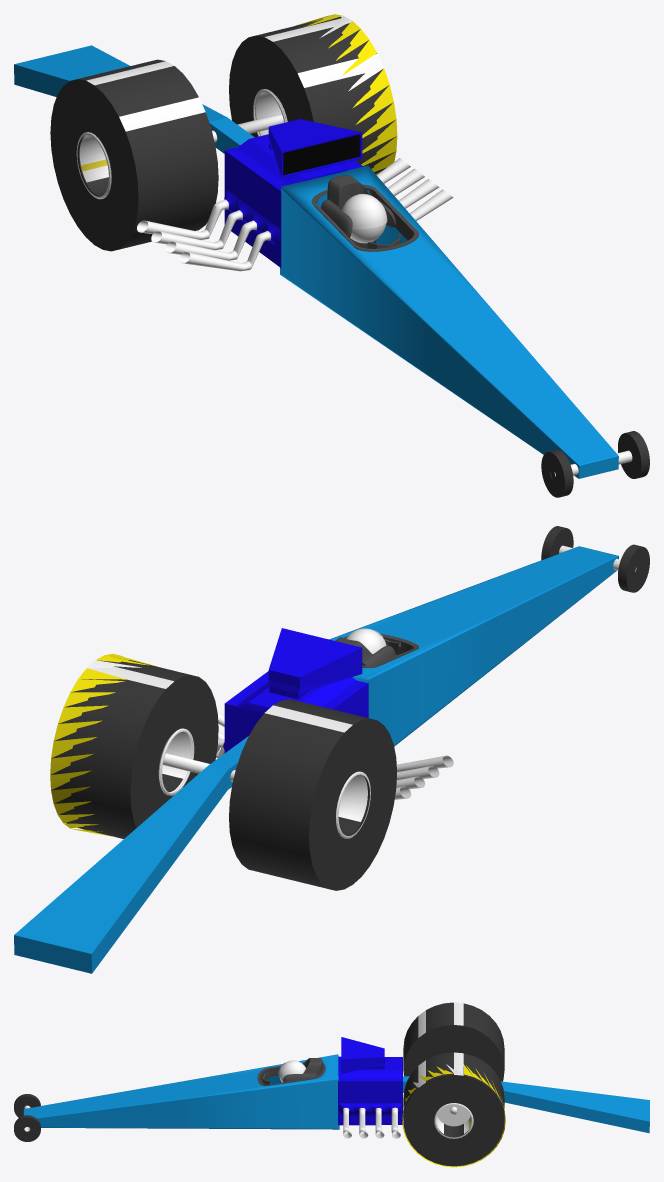
The model's file is realDrag.glb.
3 views of the same model, one above another, from view 1: azimuth 30°, elevation 25°; view 2: azimuth 150°, elevation 25°; view 3: azimuth 270°, elevation 25° (orthographic). The views are drawn at different scales.
Visible parts, largest first — view 1: body, tire-rear.right, tire-rear.left.004, tire-front.right, tire-front.left; view 2: body, tire-rear.right, tire-rear.left.004, tire-front.right, tire-front.left; view 3: body, tire-rear.left.004, tire-rear.right, tire-front.left, tire-front.right.
Boxes of the visible parts, bbox=[...] form: body: bbox=[14, 45, 632, 478]; tire-rear.right: bbox=[50, 59, 218, 251]; tire-rear.left.004: bbox=[229, 14, 397, 174]; tire-front.right: bbox=[541, 449, 573, 497]; tire-front.left: bbox=[618, 431, 649, 478]; body: bbox=[14, 545, 636, 973]; tire-rear.right: bbox=[229, 699, 396, 890]; tire-rear.left.004: bbox=[50, 653, 218, 838]; tire-front.right: bbox=[618, 544, 649, 592]; tire-front.left: bbox=[541, 526, 573, 559]; body: bbox=[23, 1037, 649, 1138]; tire-rear.left.004: bbox=[402, 1052, 505, 1167]; tire-rear.right: bbox=[403, 1002, 504, 1109]; tire-front.left: bbox=[14, 1115, 40, 1141]; tire-front.right: bbox=[14, 1094, 40, 1117].
Size of the model in its own units: 1.75 by 1.01 by 6.19.
